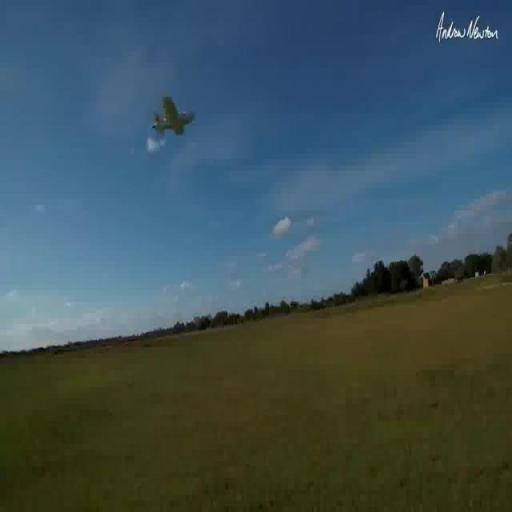uav: (150, 98, 210, 146)
